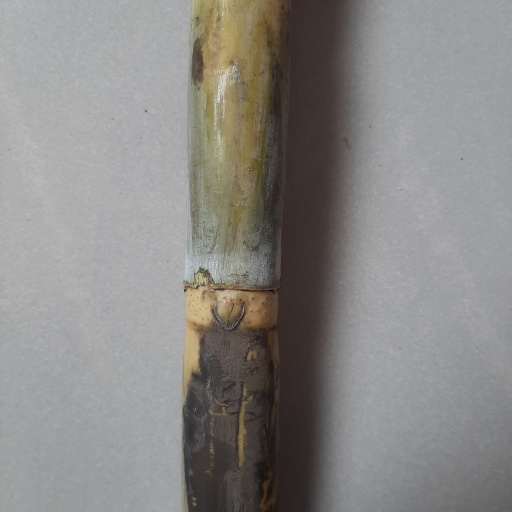Bud: (212, 292, 246, 333)
